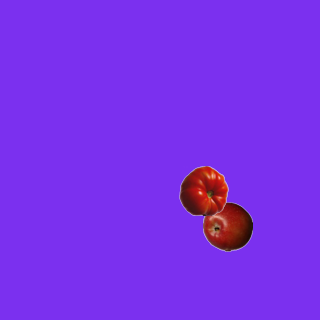Apple Braeburn: (202, 201, 252, 251)
Tomato 3: (178, 165, 228, 215)
